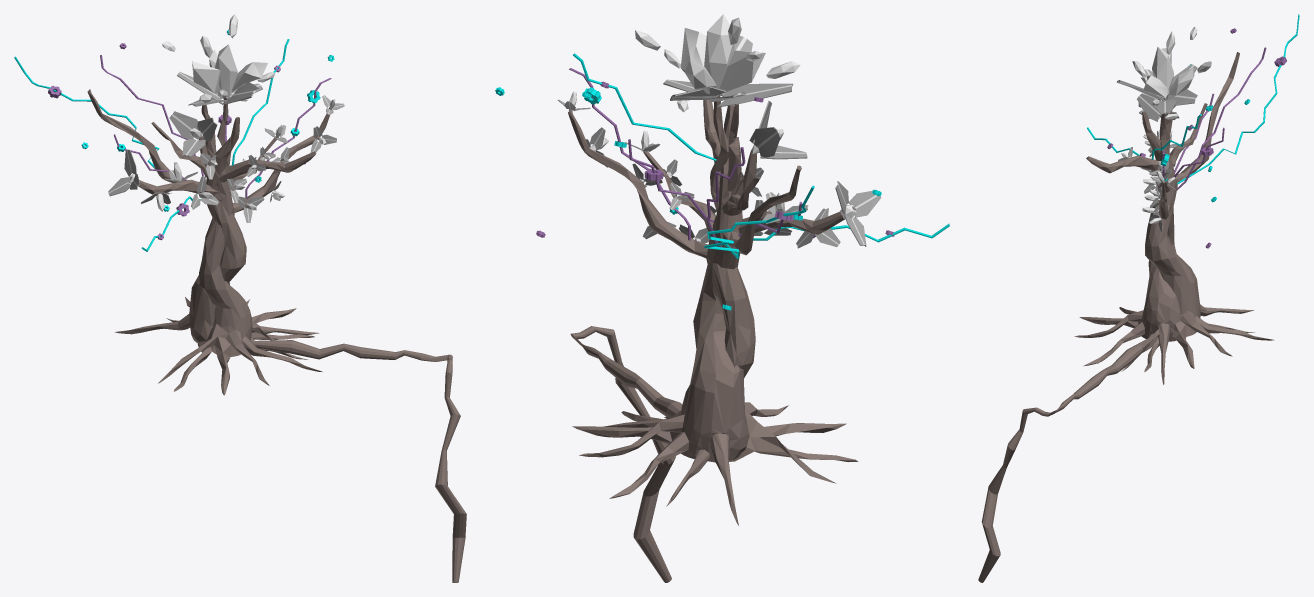
The model's file is TreeTest.fbx.
The picture shows the model from 3 angles, left to right: view 1: azimuth 30°, elevation 25°; view 2: azimuth 150°, elevation 25°; view 3: azimuth 270°, elevation 25°; orthographic projection. The views are drawn at different scales.
Parts seen in each view (by area): view 1: Tree; view 2: Tree; view 3: Tree.
Boxes of the visible parts, <box> form: Tree: <box>14,14,466,582</box>; Tree: <box>495,14,949,582</box>; Tree: <box>978,14,1299,582</box>.
Bounding box in the file's own units: 58.34 × 93.2 × 56.36.
